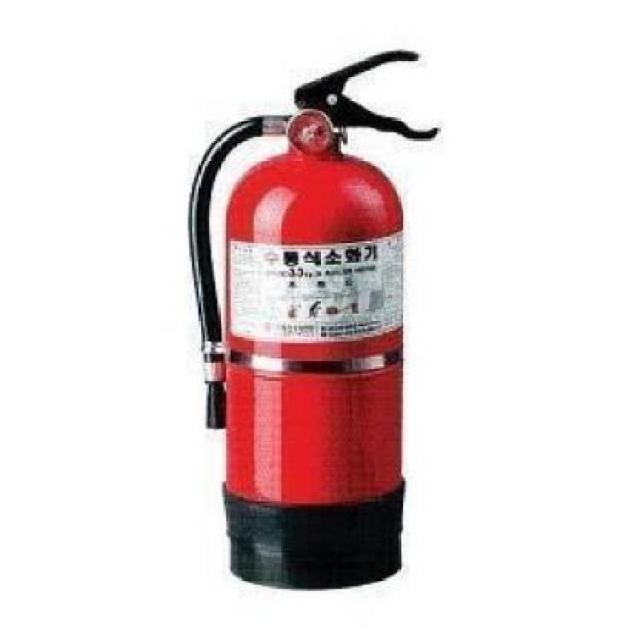fire extinguisher: (187, 50, 441, 592)
